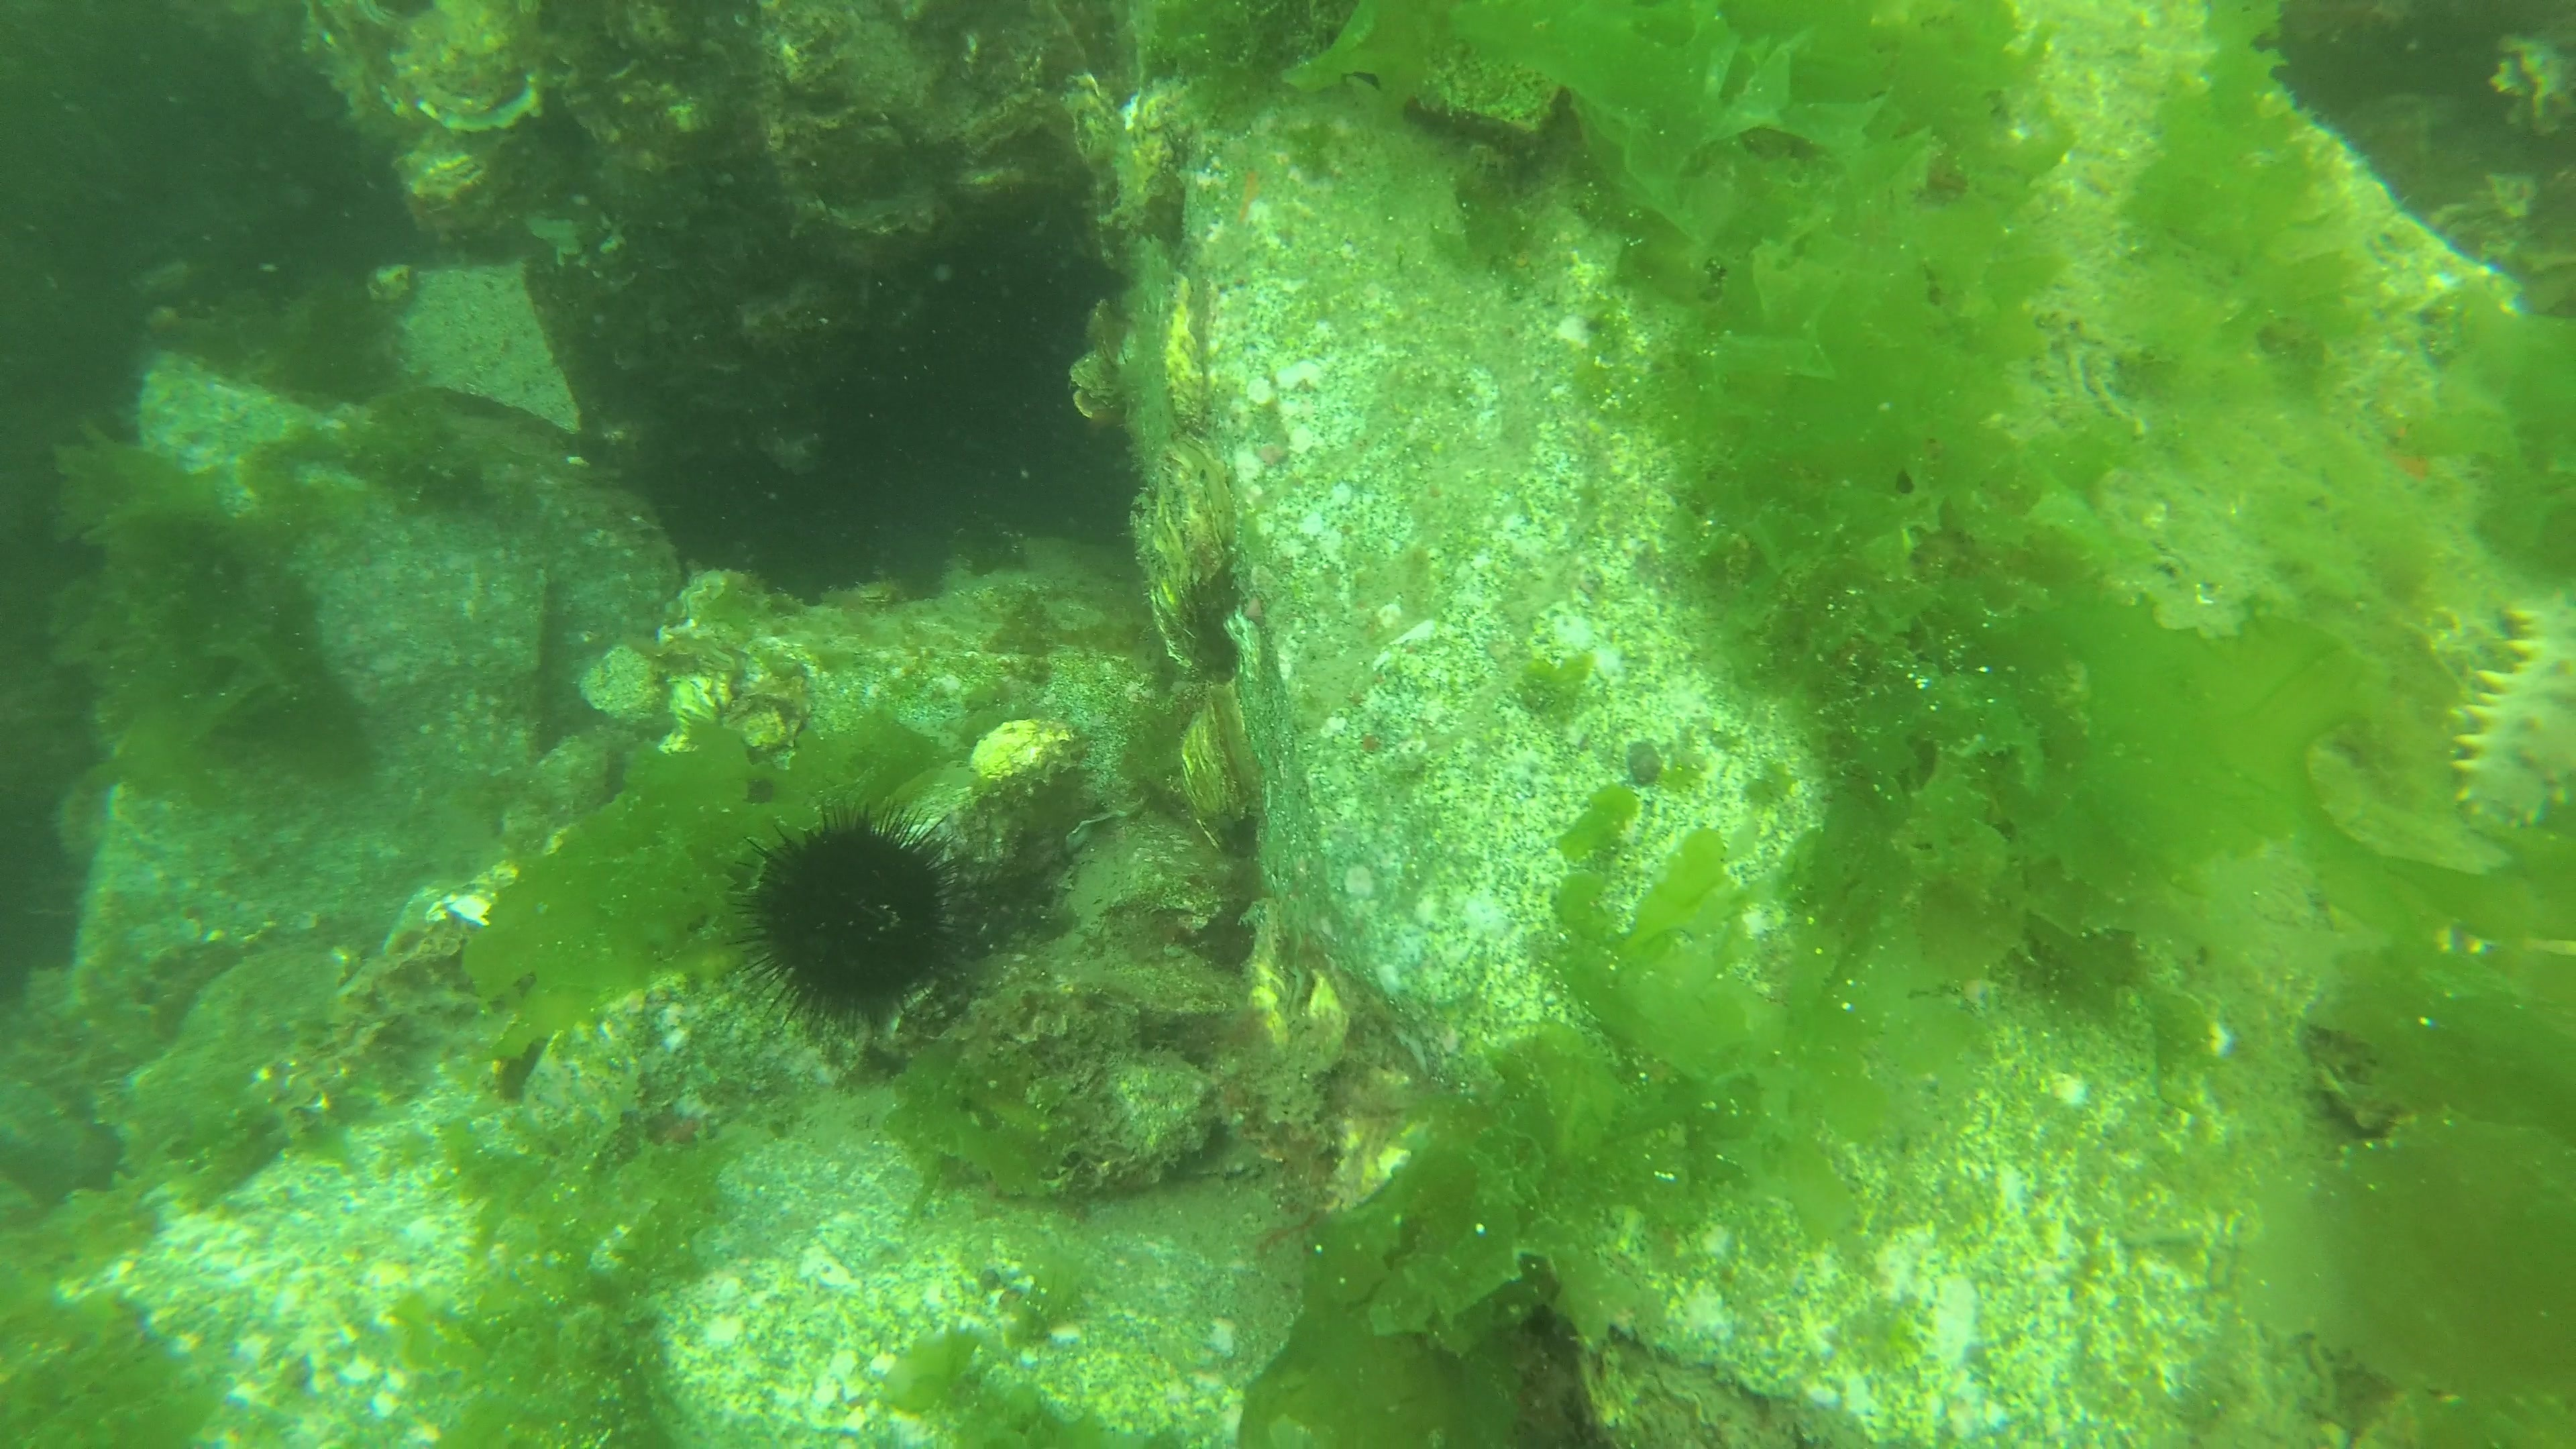echinus: (727, 809, 982, 1042)
holothurian: (2449, 571, 2576, 833)
